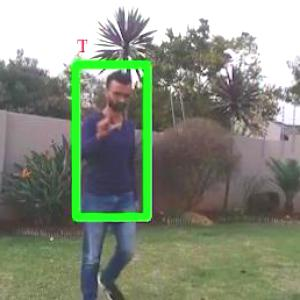land_hand: (90, 99, 118, 138)
